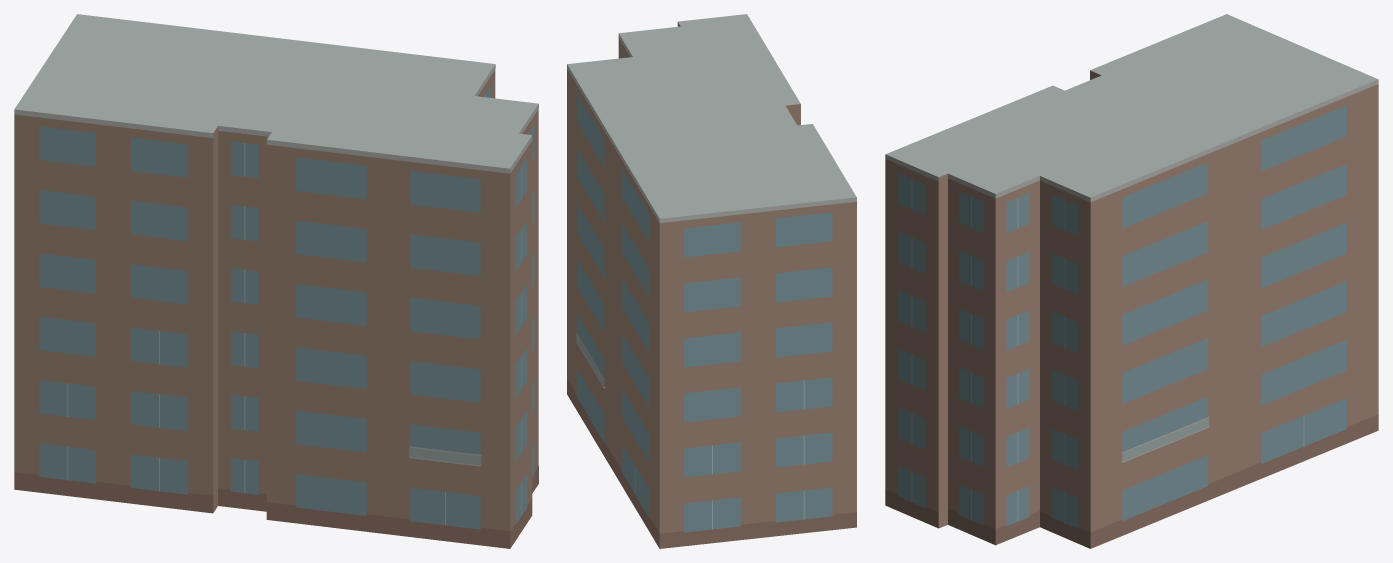
Rendered from survey-upis-32667591.glb.
3 views of the same model, side by side, from view 1: azimuth 30°, elevation 25°; view 2: azimuth 150°, elevation 25°; view 3: azimuth 270°, elevation 25° (orthographic). The views are drawn at different scales.
Visible parts, largest first — view 1: survey-upis-32667591.tmp; view 2: survey-upis-32667591.tmp; view 3: survey-upis-32667591.tmp.
Boxes of the visible parts, x1=… form: survey-upis-32667591.tmp: x1=14, y1=14, x2=538, y2=548; survey-upis-32667591.tmp: x1=567, y1=14, x2=856, y2=548; survey-upis-32667591.tmp: x1=885, y1=14, x2=1378, y2=548.
Size of the model in its own units: 20.76 by 18.5 by 23.54.
